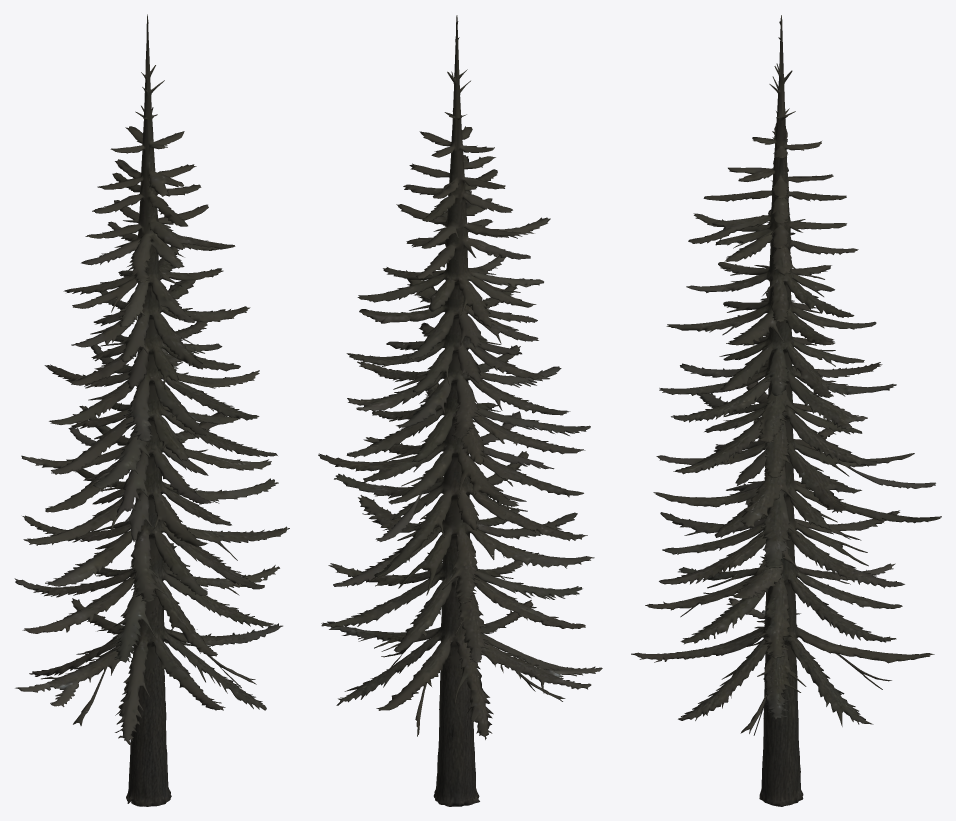
The model's file is fir1.glb.
The picture shows the model from 3 angles, left to right: view 1: azimuth 30°, elevation 25°; view 2: azimuth 150°, elevation 25°; view 3: azimuth 270°, elevation 25°; orthographic projection.
Visible parts, largest first — view 1: node_0; view 2: node_0; view 3: node_0.
Part boxes in pixels (x1=…): node_0: x1=14, y1=14, x2=289, y2=806; node_0: x1=318, y1=15, x2=602, y2=806; node_0: x1=631, y1=15, x2=941, y2=806.
Size of the model in its own units: 0.4229 by 1.19 by 0.4298.
Materials: 1 (1 with a texture image).
